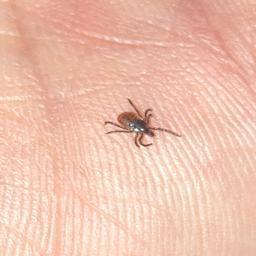Ixodes scapularis: (104, 98, 182, 149)
